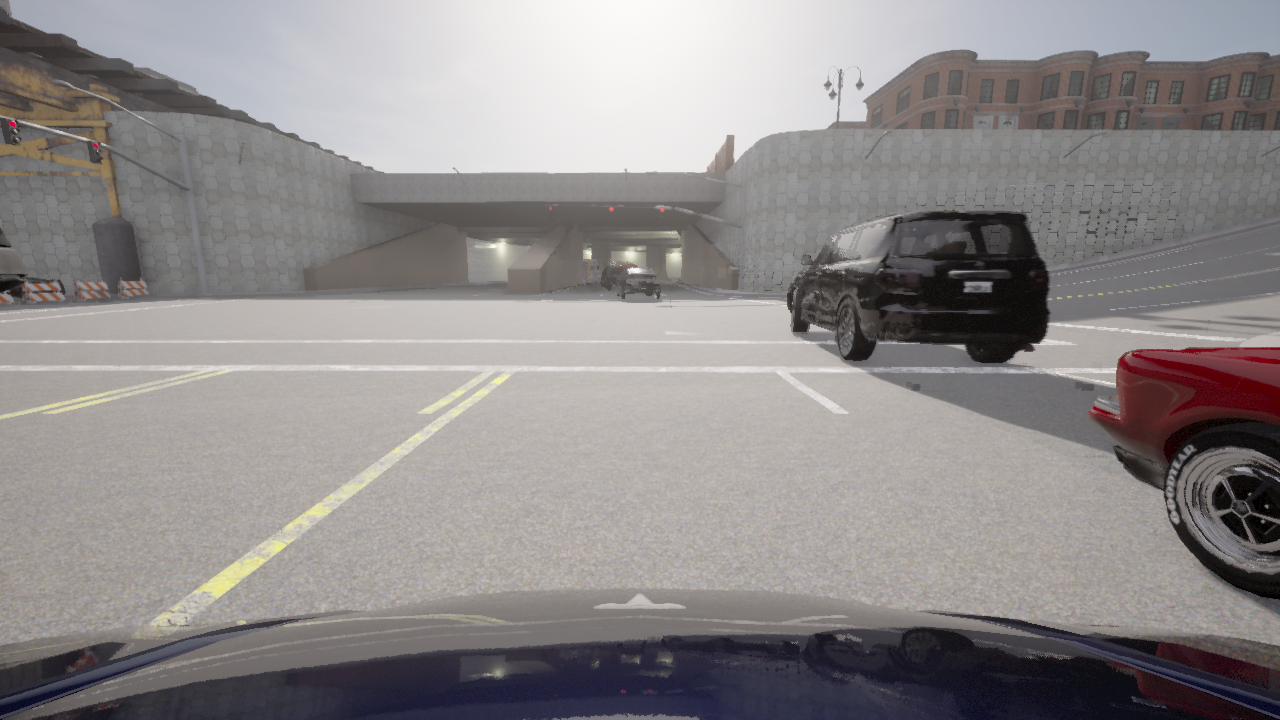cyclist: (0, 588, 1279, 719), (1086, 347, 1279, 599), (788, 211, 1049, 363), (614, 267, 661, 299), (7, 277, 65, 298), (600, 262, 636, 289), (583, 260, 608, 285)
